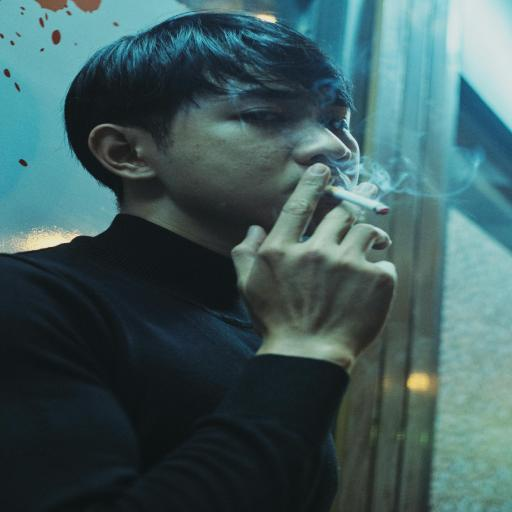terdeteksi merokok: (229, 64, 423, 253)
